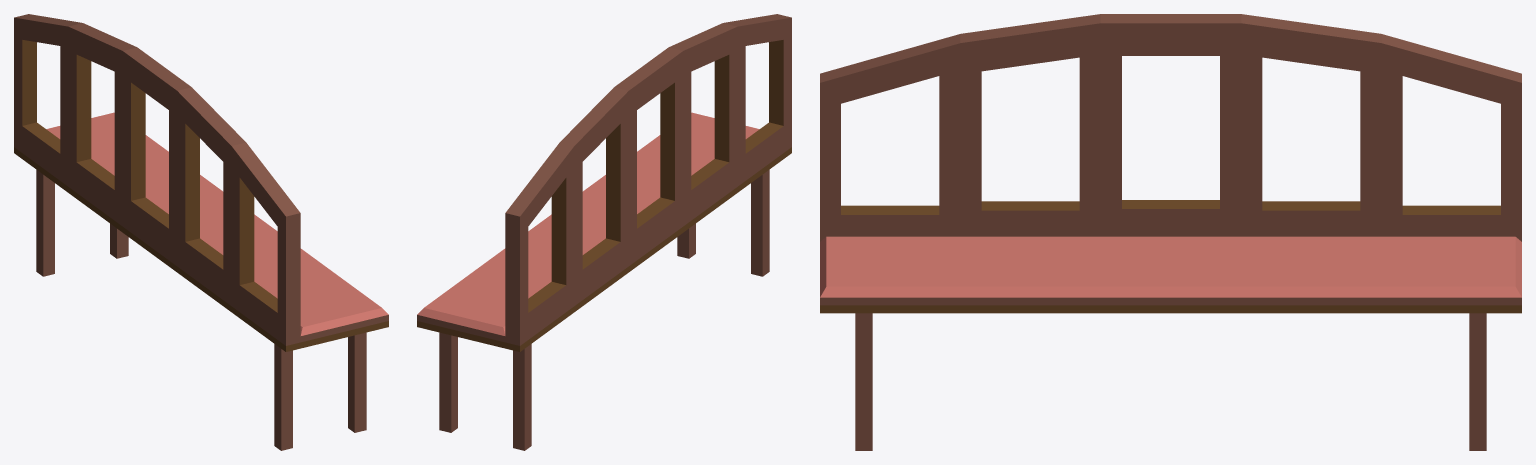
File: Bench.fbx
The picture shows the model from 3 angles, left to right: view 1: azimuth 30°, elevation 25°; view 2: azimuth 150°, elevation 25°; view 3: azimuth 270°, elevation 25°; orthographic projection. The views are drawn at different scales.
Parts seen in each view (by area): view 1: Bench; view 2: Bench; view 3: Bench.
Boxes of the visible parts, <box> form: Bench: <box>14,14,388,450</box>; Bench: <box>417,14,791,450</box>; Bench: <box>820,14,1521,450</box>.
Size of the model in its own units: 350 by 950 by 1600.
